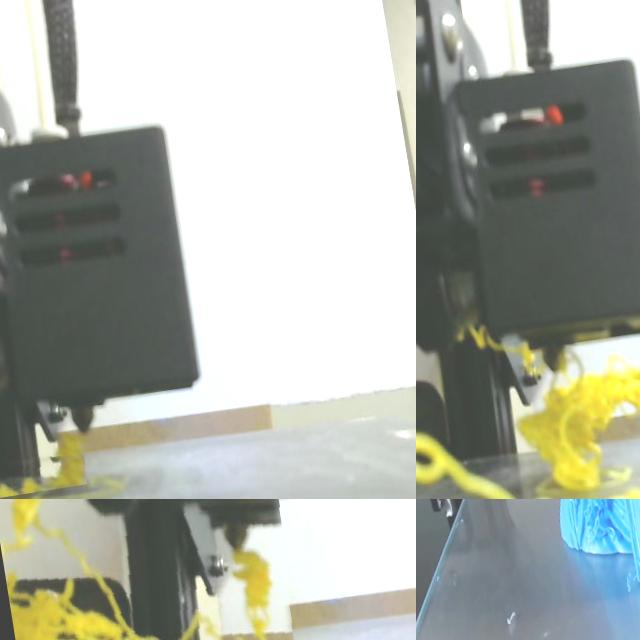spaghetti: (0, 499, 167, 640), (518, 355, 640, 492), (0, 451, 84, 498)
